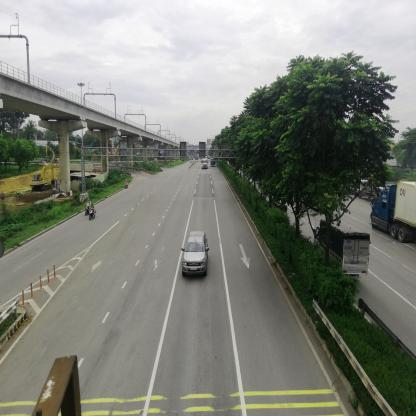car: (182, 232, 211, 277)
container: (373, 182, 416, 245), (202, 161, 208, 171)
motorbike: (90, 206, 96, 223), (87, 201, 91, 217), (125, 181, 129, 190)
truck: (312, 222, 371, 283)
